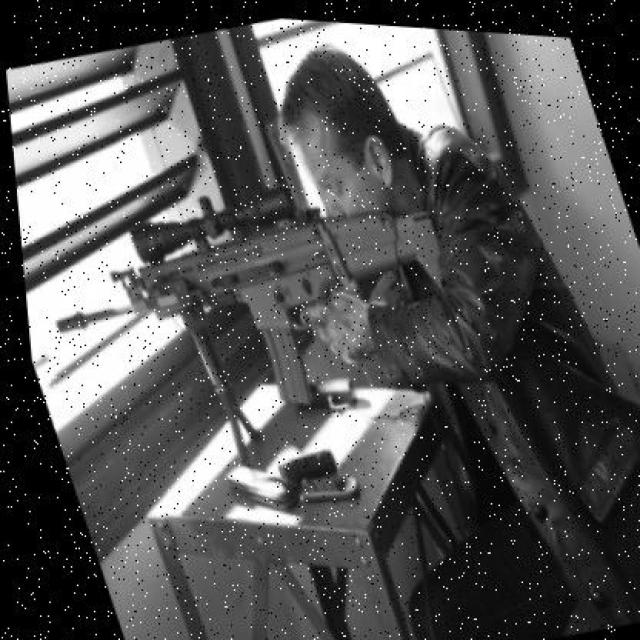weapon: (45, 185, 492, 466)
